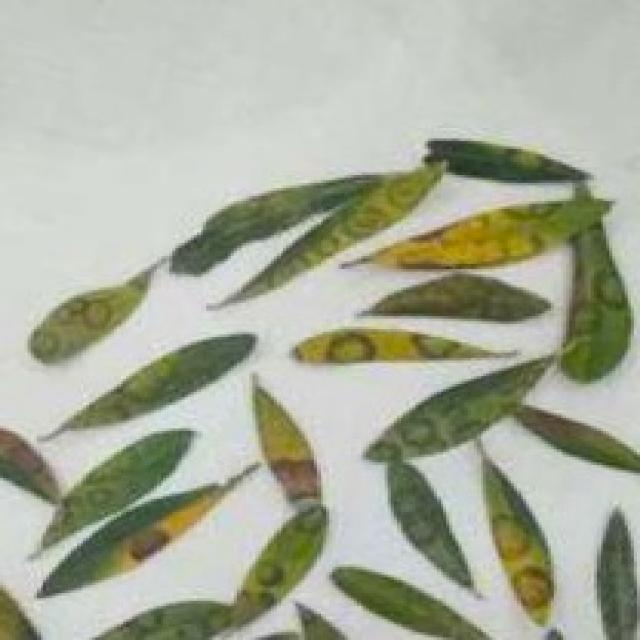Peacock Eye: (231, 165, 443, 300), (40, 474, 246, 596), (366, 355, 551, 460), (58, 334, 252, 431), (351, 191, 606, 264), (28, 264, 154, 360), (228, 504, 326, 624), (560, 225, 631, 381), (486, 460, 554, 622), (388, 460, 471, 588), (295, 327, 489, 363)
